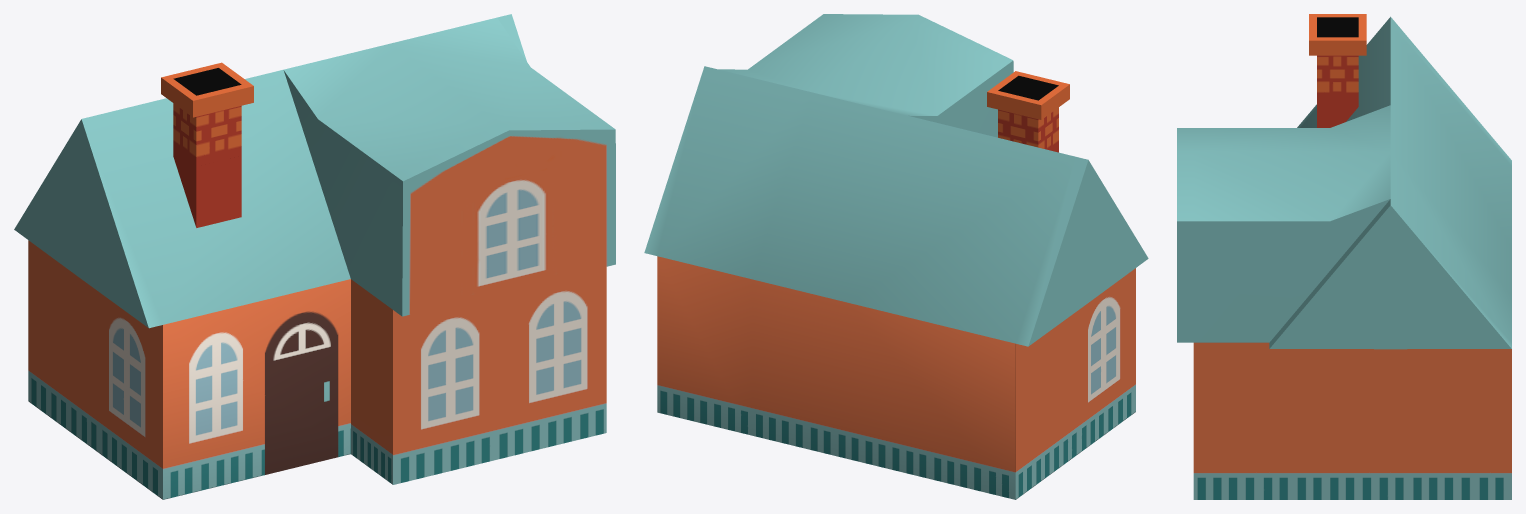
File: Building #27.fbx
3 views of the same model, side by side, from view 1: azimuth 30°, elevation 25°; view 2: azimuth 150°, elevation 25°; view 3: azimuth 270°, elevation 25° (orthographic). The views are drawn at different scales.
Visible parts, largest first — view 1: BuildingD; view 2: BuildingD; view 3: BuildingD.
Boxes of the visible parts, x1,y1,x2,y2 form: BuildingD: (14, 14, 615, 499); BuildingD: (644, 14, 1148, 499); BuildingD: (1177, 14, 1511, 499).
Size of the model in its own units: 3087 by 2540 by 2315.
Materials: 1 (1 with a texture image).
